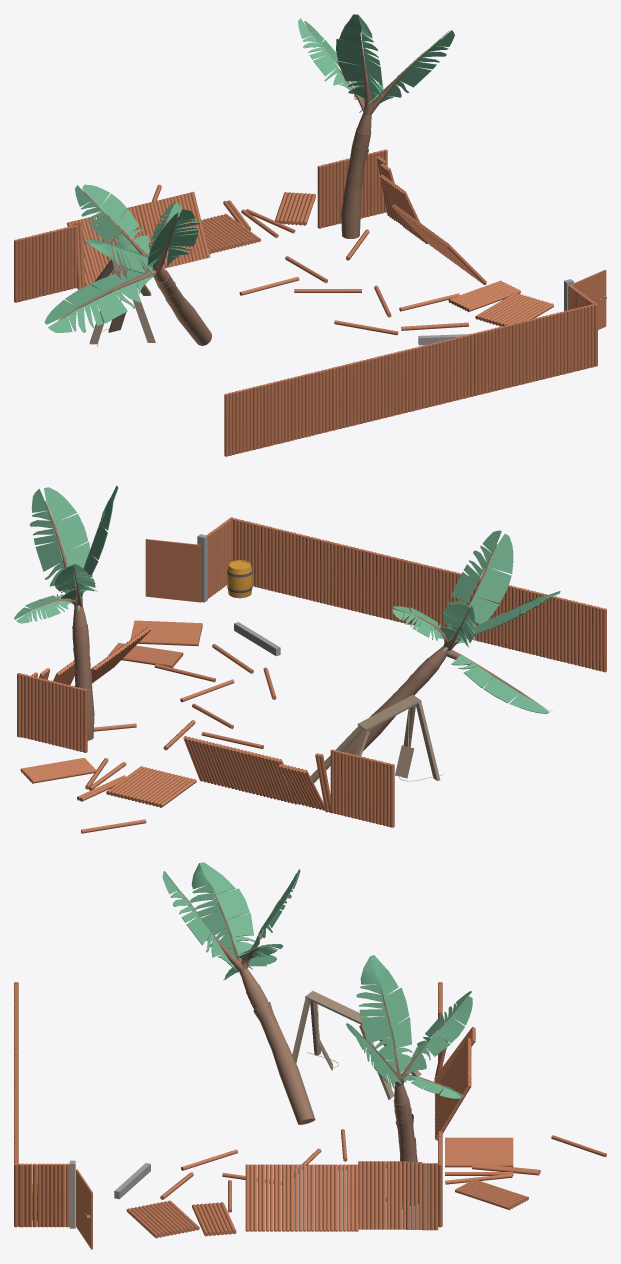
File: Yard 1.fbx
3 views of the same model, one above another, from view 1: azimuth 30°, elevation 25°; view 2: azimuth 150°, elevation 25°; view 3: azimuth 270°, elevation 25° (orthographic).
Visible parts, largest first — view 1: Yard; view 2: Yard; view 3: Yard.
Boxes of the visible parts, bbox=[...] form: Yard: bbox=[14, 14, 606, 456]; Yard: bbox=[14, 485, 606, 833]; Yard: bbox=[14, 862, 606, 1249].
Size of the model in its own units: 1236 by 639 by 1310.
2 materials, 2 textured.
